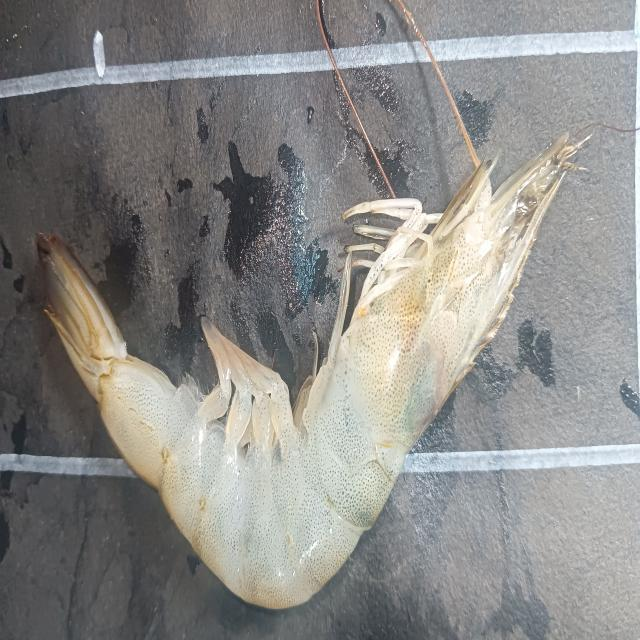shrimp: (36, 135, 581, 609)
